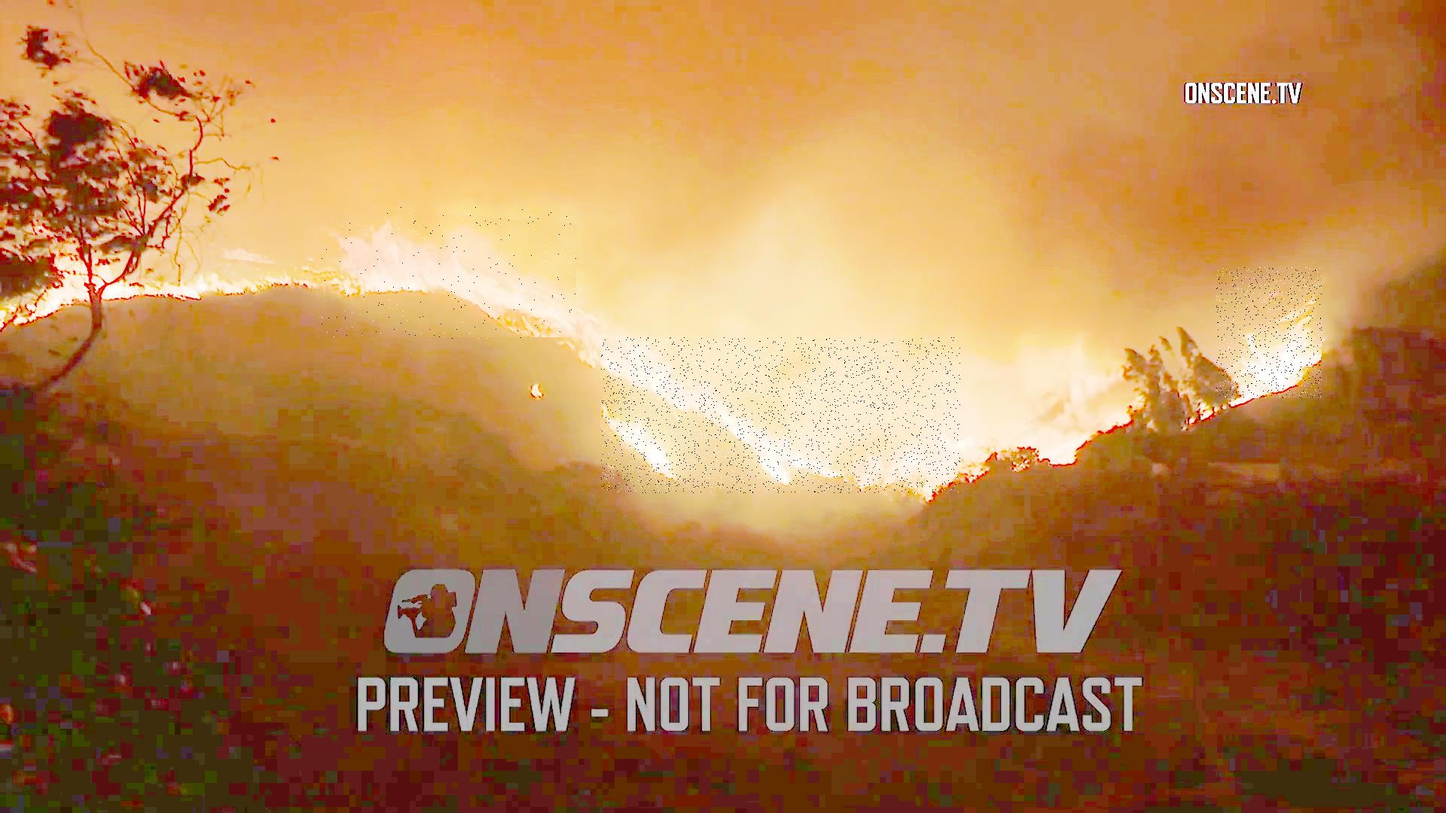fire: (602, 338, 961, 493), (320, 205, 576, 339), (1216, 267, 1322, 398)
